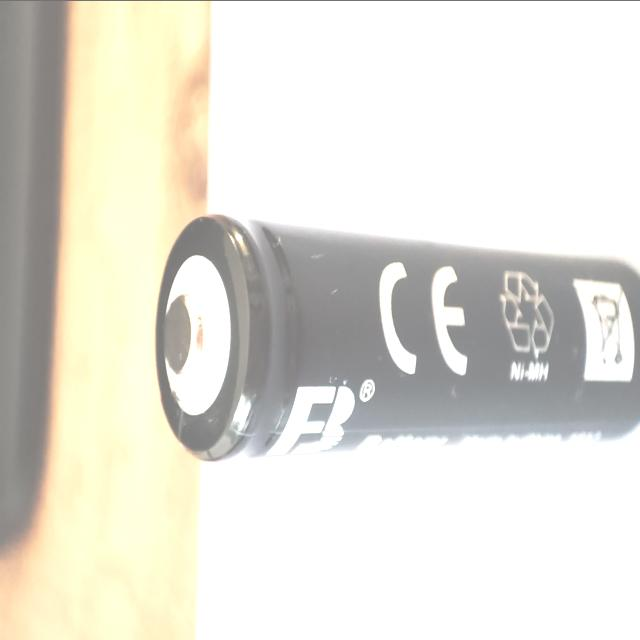AA: (154, 212, 638, 463)
